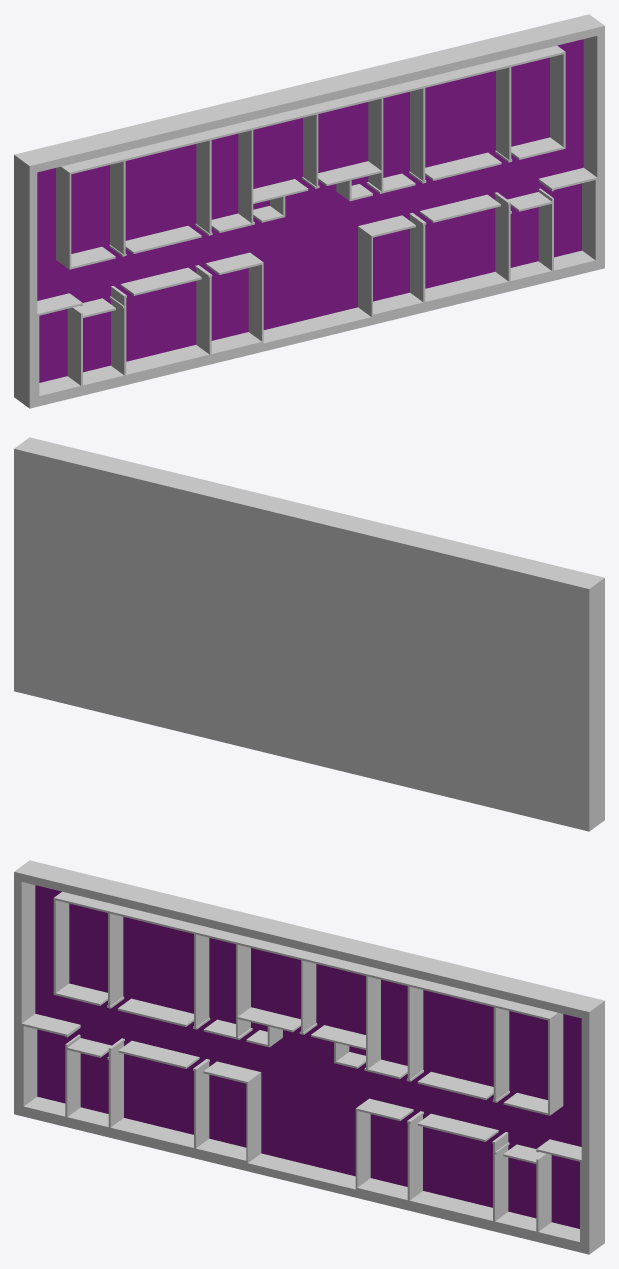
The model's file is Hall 8.1 Mezzanine.gltf.
3 renders of one model, top to bottom at view 1: azimuth 30°, elevation 25°; view 2: azimuth 150°, elevation 25°; view 3: azimuth 330°, elevation 25°, orthographic.
Visible parts, largest first — view 1: Hall 8.1 Mezzanine; view 2: Hall 8.1 Mezzanine; view 3: Hall 8.1 Mezzanine.
Part boxes in pixels (left/top/right/bottom): Hall 8.1 Mezzanine: left=14, top=14, right=604, bottom=408; Hall 8.1 Mezzanine: left=14, top=437, right=604, bottom=831; Hall 8.1 Mezzanine: left=14, top=860, right=604, bottom=1254.
Bounding box in the file's own units: 74 × 29.81 × 3.5.
